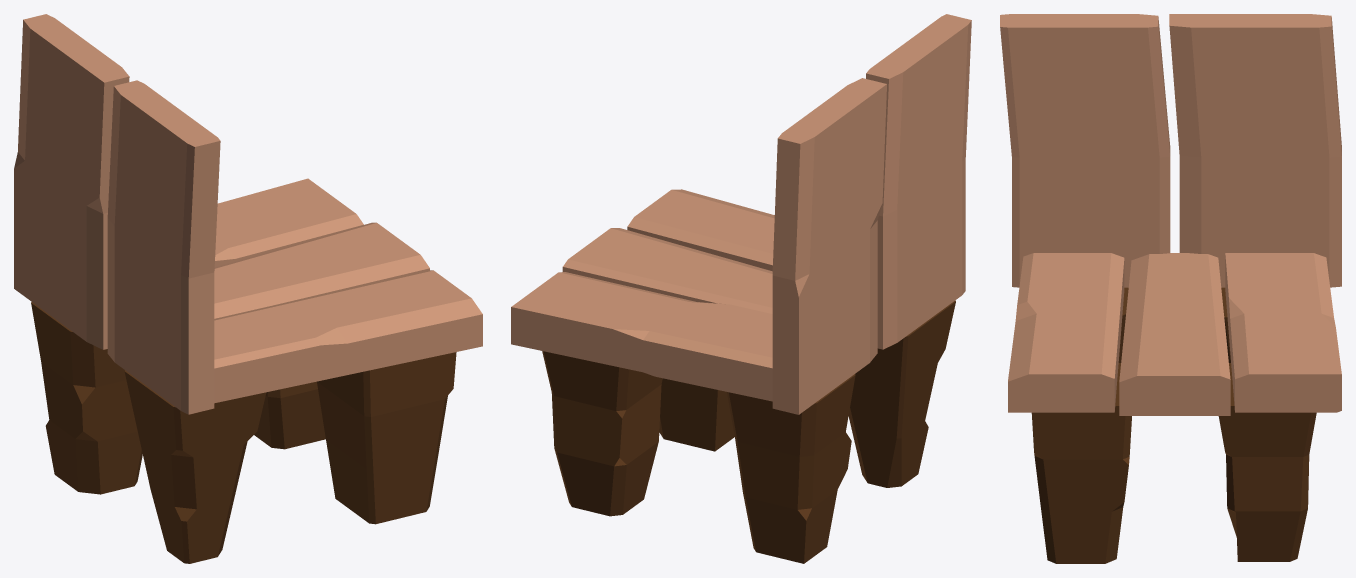
File: Chair1.fbx
The picture shows the model from 3 angles, left to right: view 1: azimuth 30°, elevation 25°; view 2: azimuth 150°, elevation 25°; view 3: azimuth 270°, elevation 25°; orthographic projection. The views are drawn at different scales.
Parts seen in each view (by area): view 1: Cube.019, Cube.048, Cube.049, Cube.047, Cube.020, Cube.046; view 2: Cube.019, Cube.049, Cube.048, Cube.046, Cube.020, Cube.047; view 3: Cube.049, Cube.048, Cube.019, Cube.046, Cube.047, Cube.020.
Part boxes in pixels (<box>): Cube.019: <box>31,302,456,563</box>; Cube.048: <box>107,80,220,414</box>; Cube.049: <box>14,14,129,349</box>; Cube.047: <box>214,270,482,403</box>; Cube.020: <box>214,222,429,318</box>; Cube.046: <box>214,178,363,266</box>; Cube.019: <box>542,300,955,563</box>; Cube.049: <box>772,78,886,414</box>; Cube.048: <box>866,14,971,349</box>; Cube.046: <box>511,272,772,401</box>; Cube.020: <box>562,228,772,313</box>; Cube.047: <box>627,189,774,271</box>; Cube.049: <box>1169,14,1341,287</box>; Cube.048: <box>1000,14,1170,287</box>; Cube.019: <box>1031,287,1316,563</box>; Cube.046: <box>1225,253,1341,412</box>; Cube.047: <box>1008,253,1124,412</box>; Cube.020: <box>1119,253,1230,415</box>.
Bounding box in the file's own units: 558 × 791 × 575.
